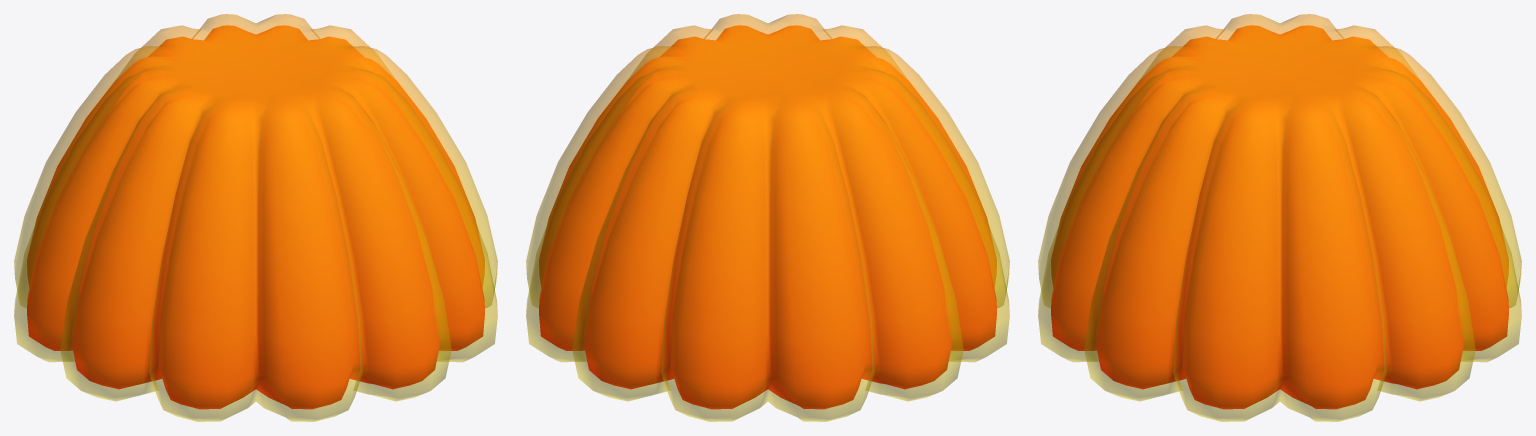
The model's file is Jelly_01.glb.
The picture shows the model from 3 angles, left to right: view 1: azimuth 30°, elevation 25°; view 2: azimuth 150°, elevation 25°; view 3: azimuth 270°, elevation 25°; orthographic projection.
Parts seen in each view (by area): view 1: Jelly_01; view 2: Jelly_01; view 3: Jelly_01.
Boxes of the visible parts, left/top/right/bottom form: Jelly_01: left=14, top=14, right=497, bottom=421; Jelly_01: left=526, top=14, right=1009, bottom=421; Jelly_01: left=1038, top=14, right=1521, bottom=421.
Size of the model in its own units: 16.27 by 10.09 by 16.27.
Materials: 2 (2 with a texture image).
